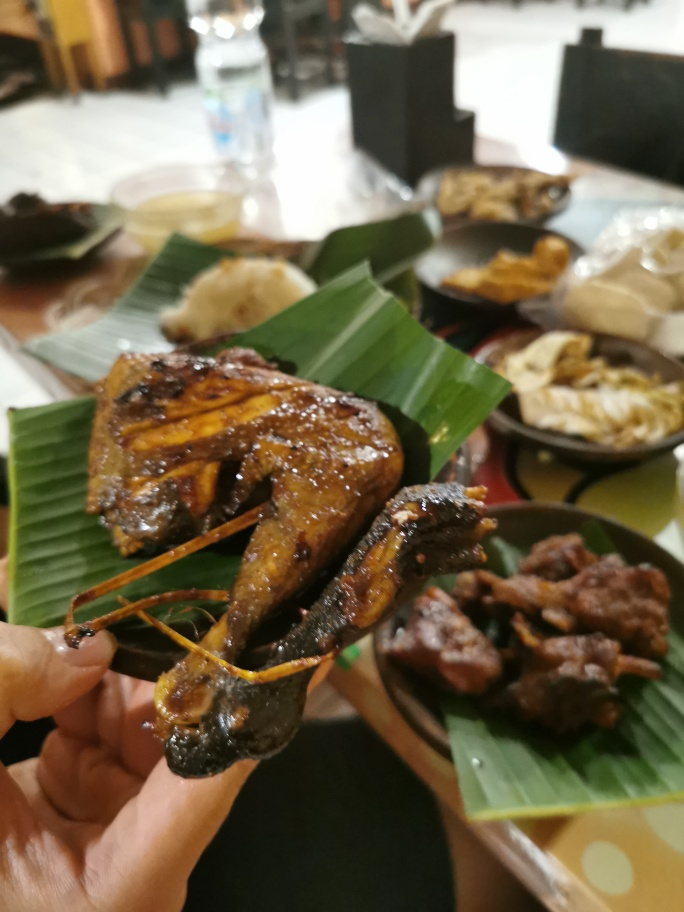ayam bakar: (93, 340, 501, 789)
